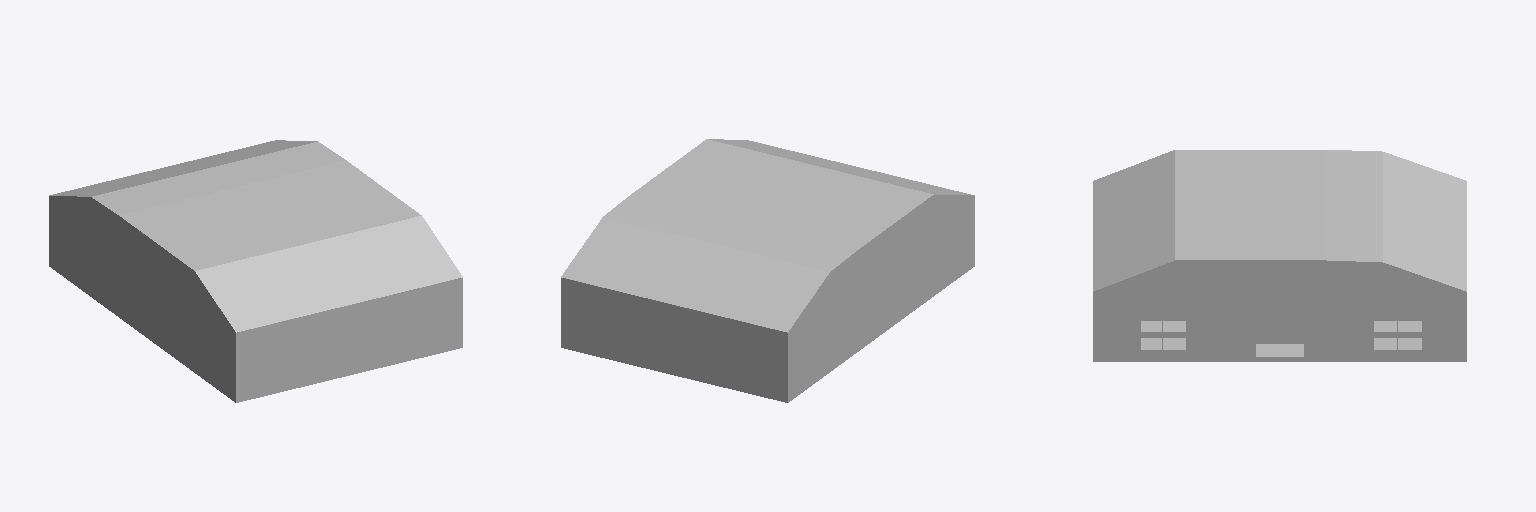
File: house68.obj
3 renders of one model, left to right at view 1: azimuth 30°, elevation 25°; view 2: azimuth 150°, elevation 25°; view 3: azimuth 270°, elevation 25°, orthographic.
Visible parts, largest first — view 1: 立方体.097; view 2: 立方体.097; view 3: 立方体.097.
Part boxes in pixels (x1,y1,x2,y2): 立方体.097: (49, 140, 462, 402); 立方体.097: (561, 139, 974, 402); 立方体.097: (1093, 150, 1466, 361).
Bounding box in the file's own units: 70 × 30 × 100.